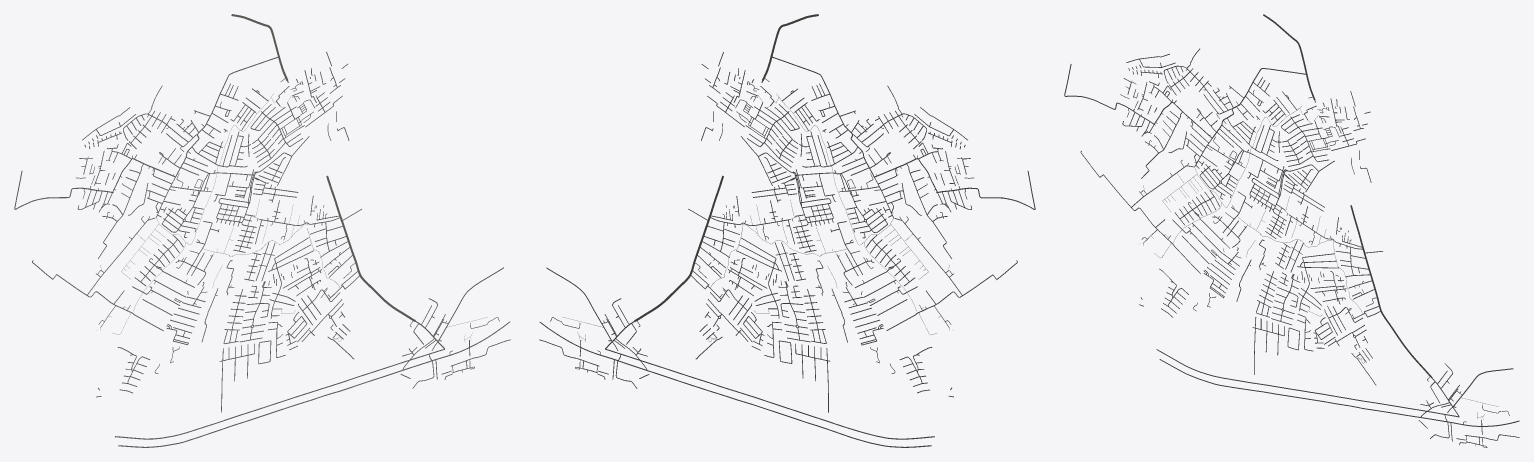
File: roads_2_1.obj
The picture shows the model from 3 angles, left to right: view 1: azimuth 30°, elevation 25°; view 2: azimuth 150°, elevation 25°; view 3: azimuth 330°, elevation 25°; orthographic projection. The views are drawn at different scales.
Size of the model in its own units: 3784 by 3055 by 12.14.
Materials: 4 (4 with a texture image).
